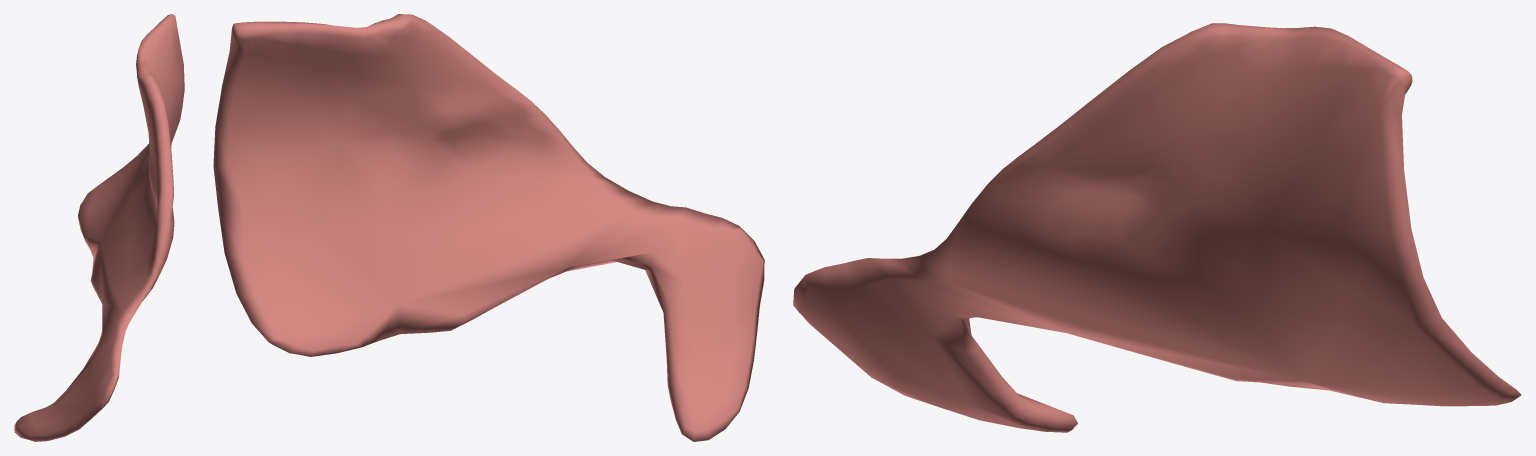
The picture shows the model from 3 angles, left to right: view 1: azimuth 30°, elevation 25°; view 2: azimuth 150°, elevation 25°; view 3: azimuth 270°, elevation 25°; orthographic projection. The views are drawn at different scales.
Visible parts, largest first — view 1: ZA_ea57ed2010442c53; view 2: ZA_ea57ed2010442c53; view 3: ZA_ea57ed2010442c53.
Part boxes in pixels (x1=…): ZA_ea57ed2010442c53: x1=14, y1=14, x2=184, y2=441; ZA_ea57ed2010442c53: x1=213, y1=14, x2=764, y2=441; ZA_ea57ed2010442c53: x1=793, y1=23, x2=1521, y2=432.
Size of the model in its own units: 0.0101 by 0.011 by 0.0123.
